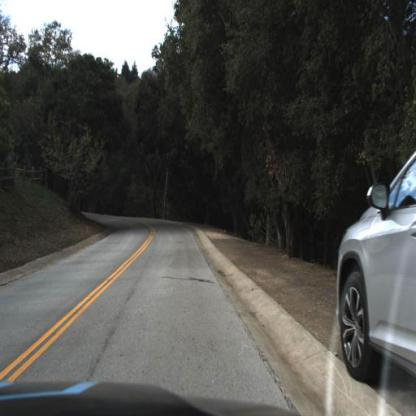car: (337, 150, 416, 386)
